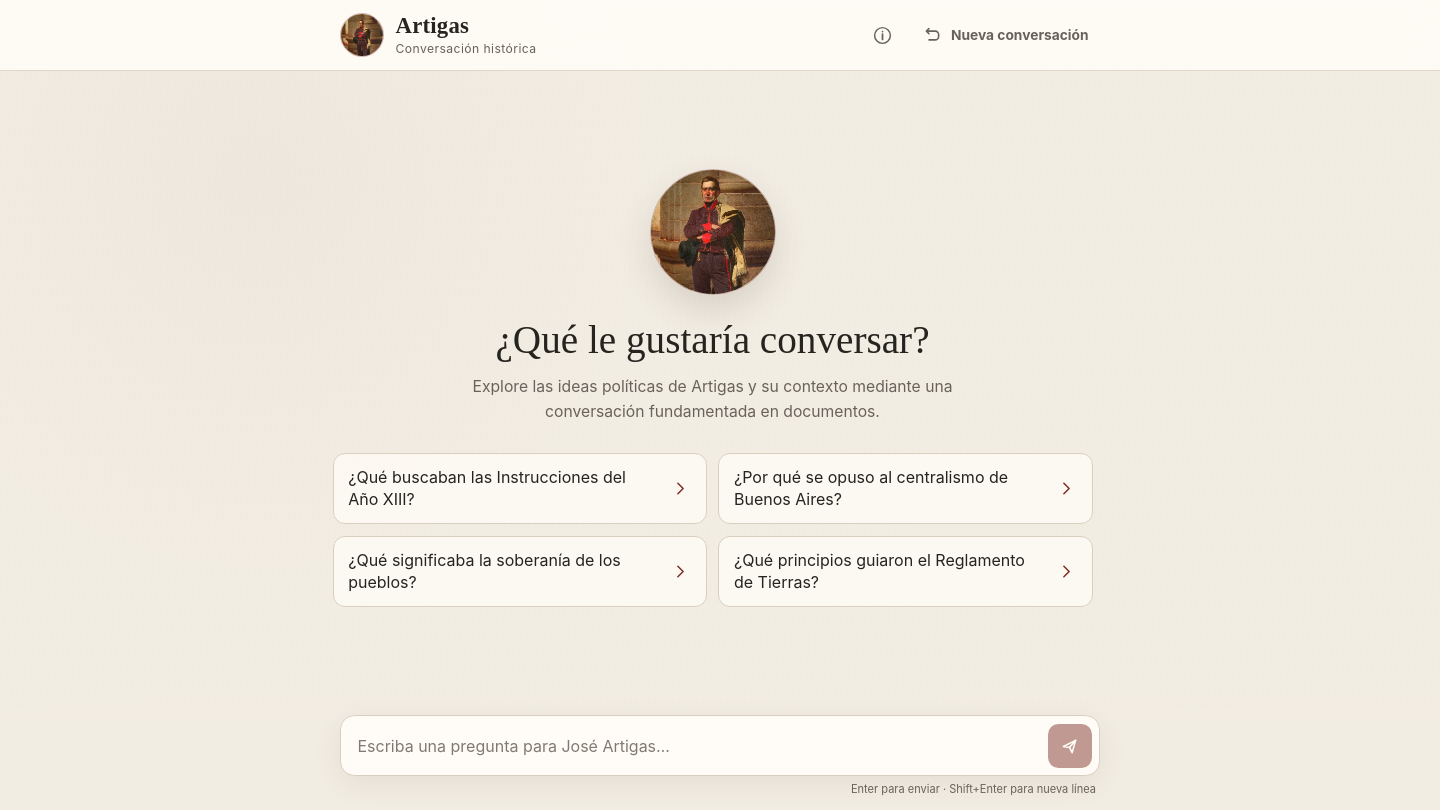
Test: ChatPage › opens an accessible information dialog and restores focus on close
The image size is (1440, 810).
Click the button named "Información": [883, 35] box [861, 13, 905, 57]
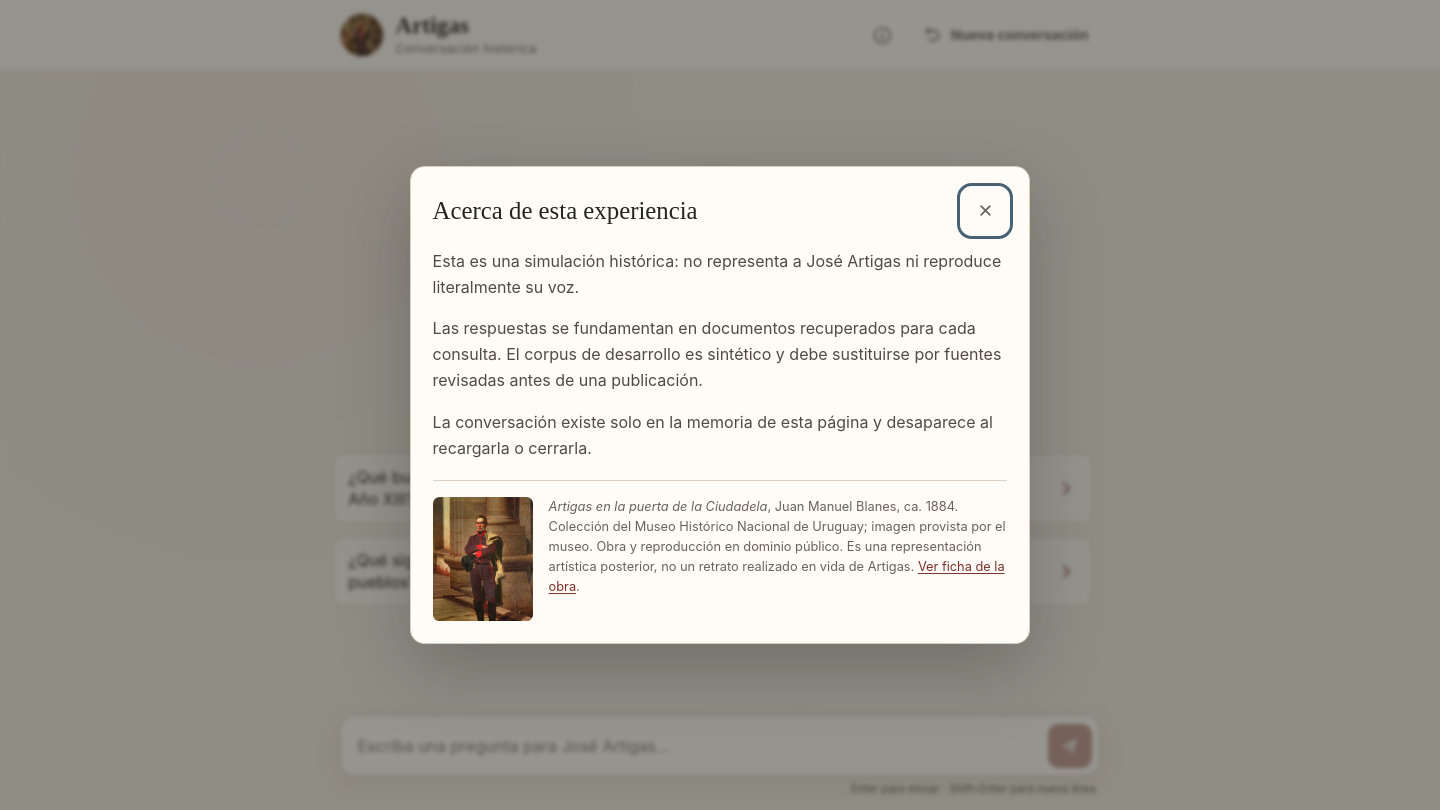
Expected: the dialog "Acerca de esta experiencia" shows "simulación histórica", [433, 251, 1001, 296]
Expected: the dialog "Acerca de esta experiencia" shows "corpus de desarrollo es sintético", [433, 318, 1001, 390]
Press Escape in the dialog "Acerca de esta experiencia", box [410, 166, 1030, 644]
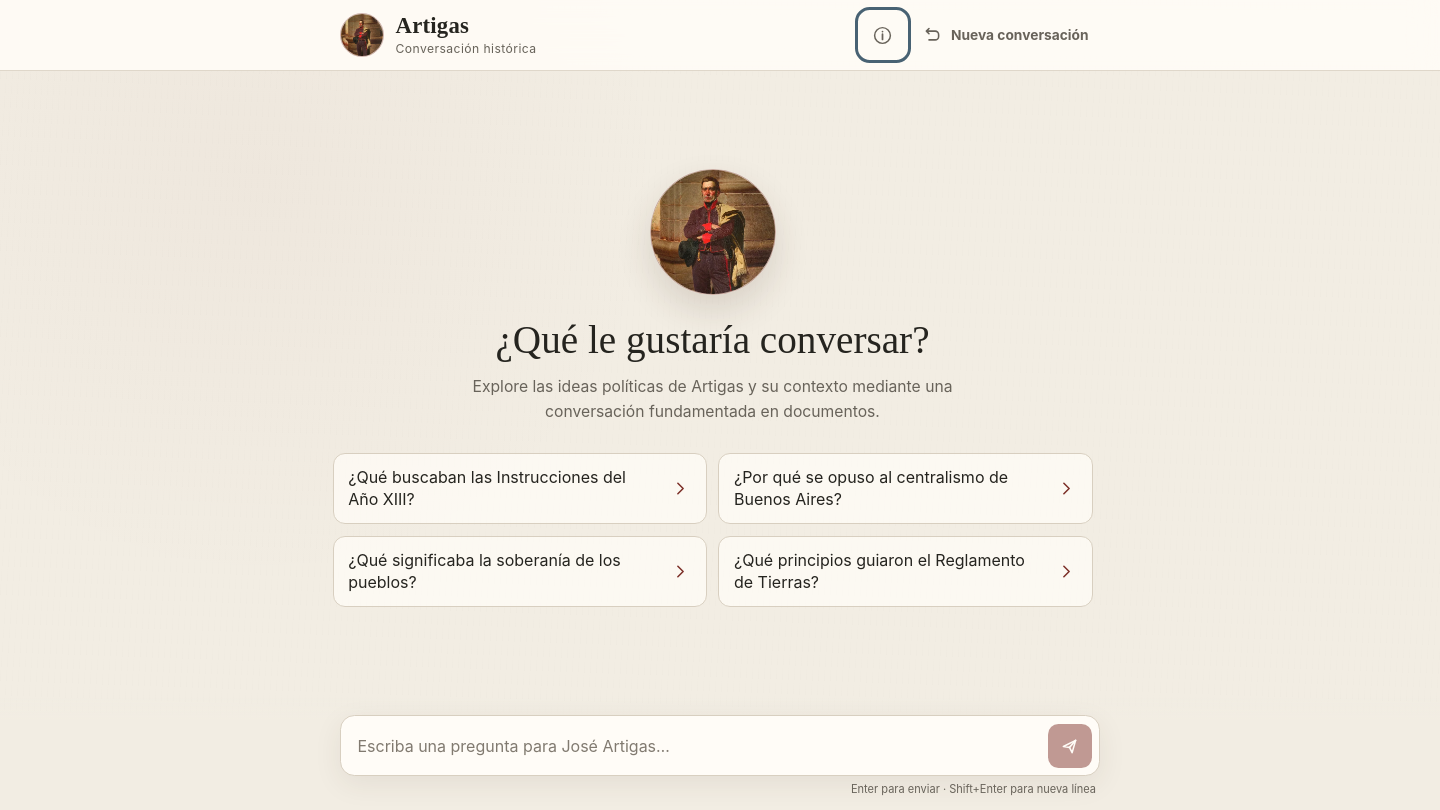
Expected: the dialog is gone
Click the button named "Información": [883, 35] box [861, 13, 905, 57]
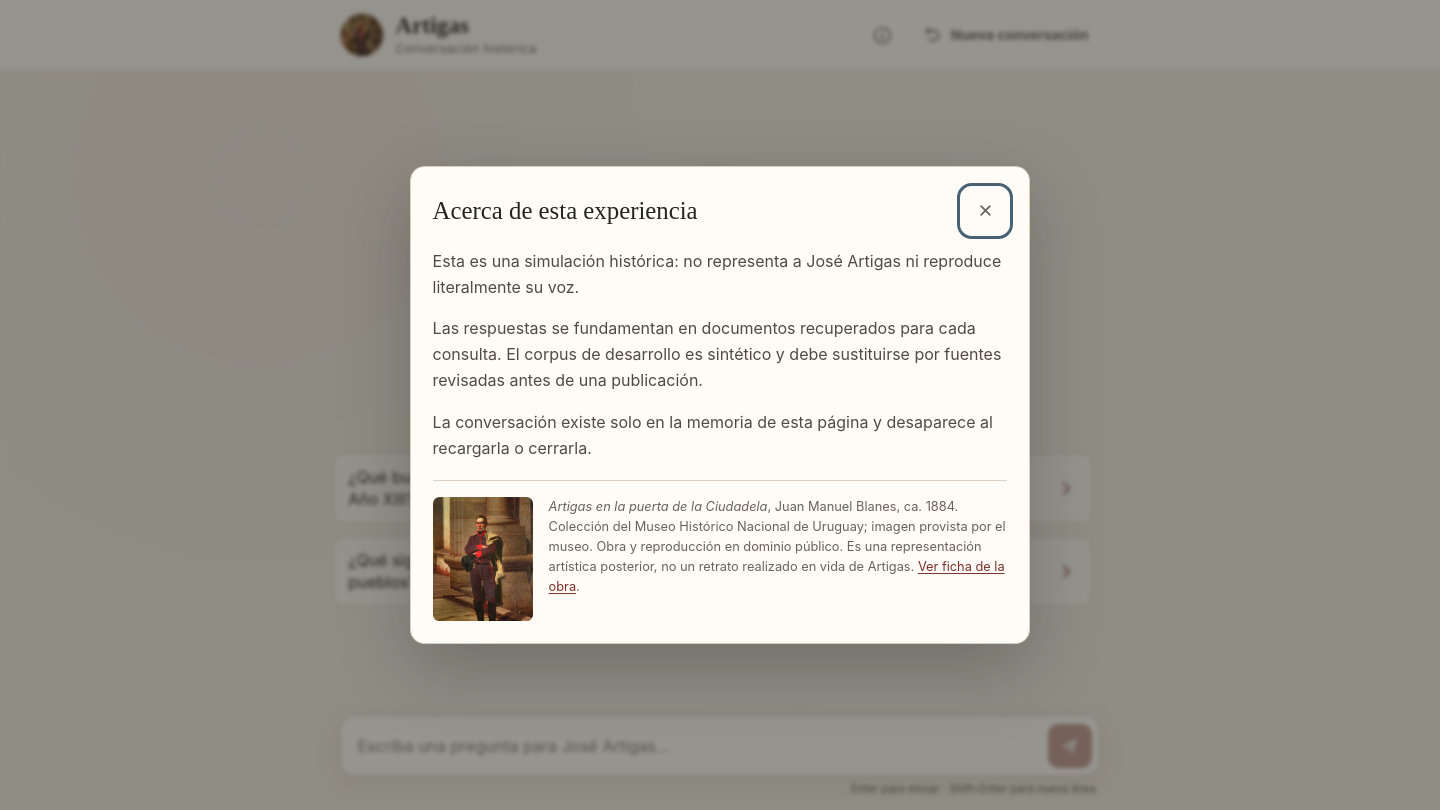
Click the button named "Cerrar información": [985, 211] box [963, 189, 1007, 233]
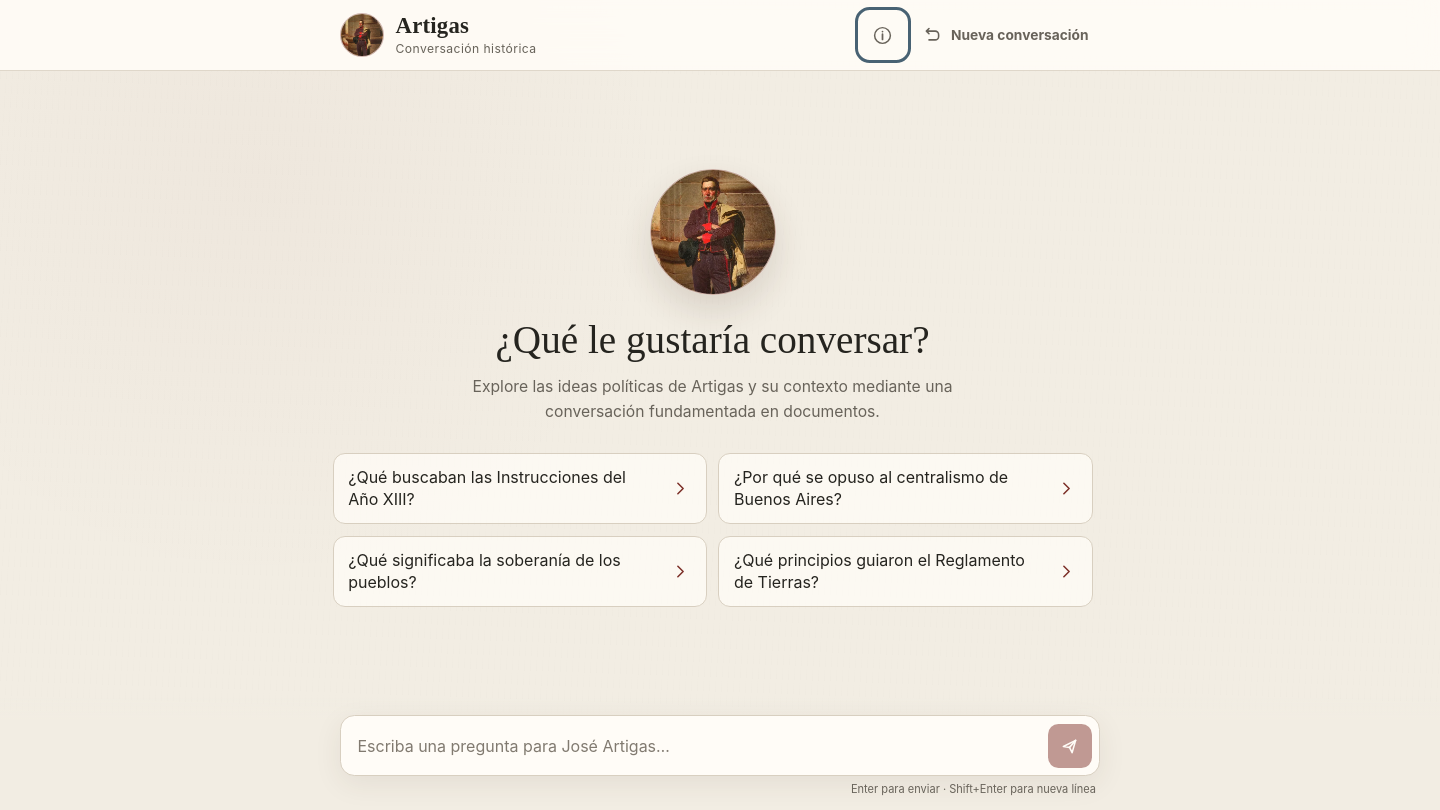
Expected: the dialog is gone
